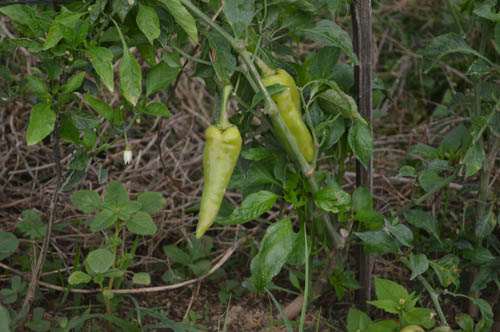ChiliPepper: (186, 119, 246, 244), (252, 68, 322, 175)
